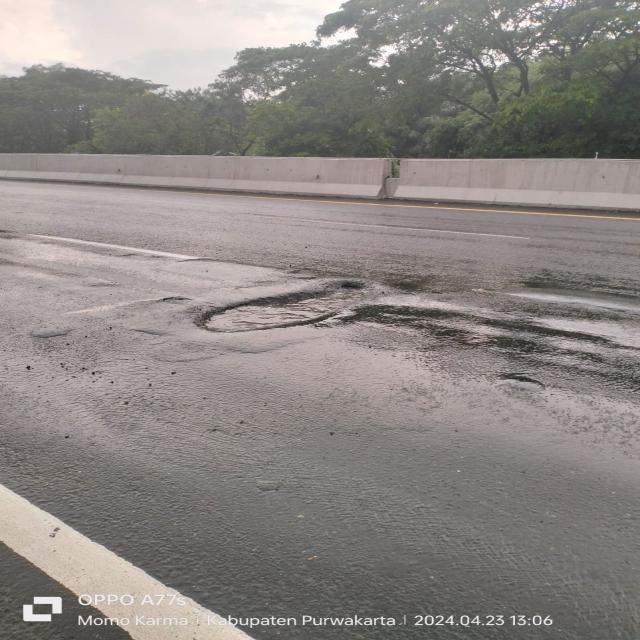Buraco: (191, 278, 377, 335), (485, 370, 548, 395), (158, 295, 193, 306)
